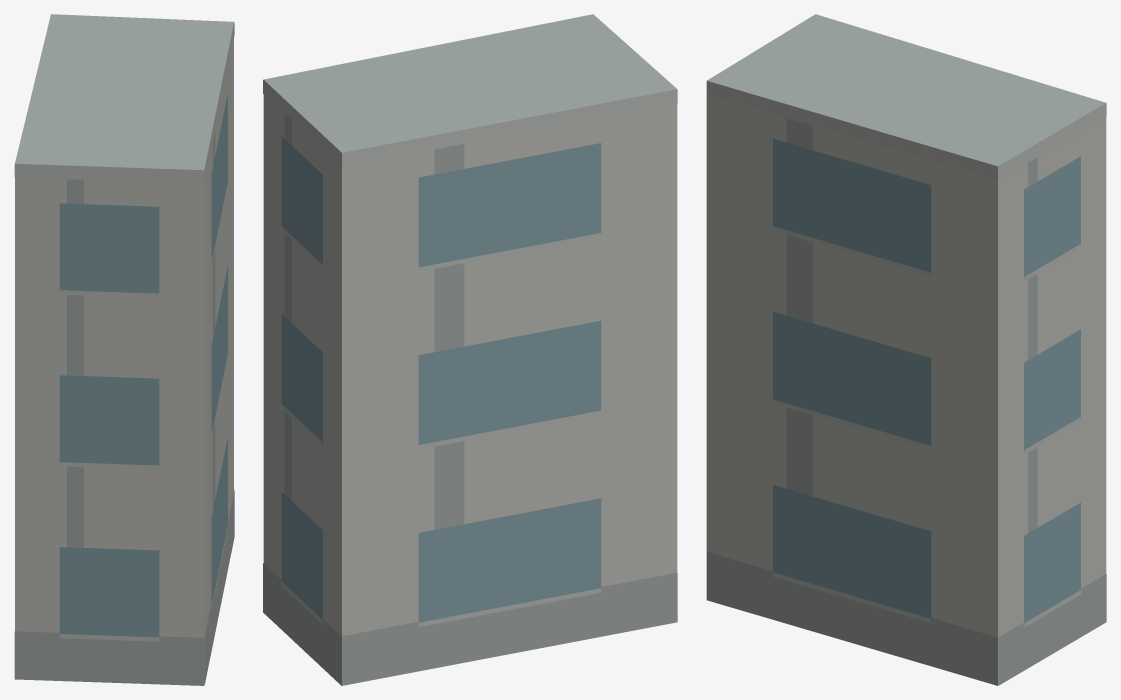
Rendered from survey-upis-32571382.glb.
The picture shows the model from 3 angles, left to right: view 1: azimuth 30°, elevation 25°; view 2: azimuth 150°, elevation 25°; view 3: azimuth 270°, elevation 25°; orthographic projection. The views are drawn at different scales.
Parts seen in each view (by area): view 1: survey-upis-32571382.tmp; view 2: survey-upis-32571382.tmp; view 3: survey-upis-32571382.tmp.
Boxes of the visible parts, x1=… form: survey-upis-32571382.tmp: x1=14, y1=14, x2=234, y2=685; survey-upis-32571382.tmp: x1=263, y1=14, x2=677, y2=685; survey-upis-32571382.tmp: x1=706, y1=14, x2=1106, y2=685.
Size of the model in its own units: 5.77 by 9.15 by 6.39.
